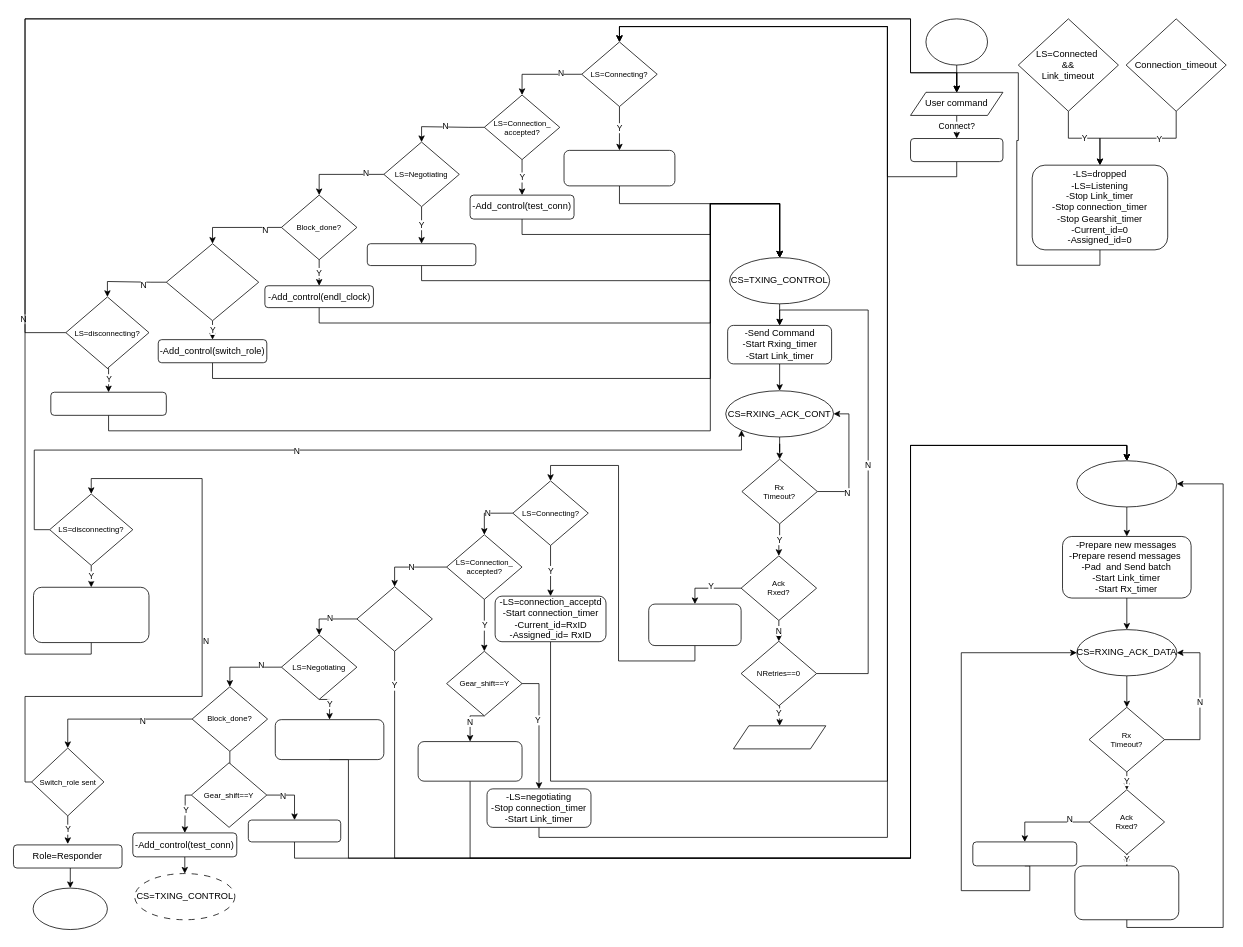
This 1243x947 diagram has some shape labels left out. The box of each missing label's shape, as (x1, y1, x2, y2) in pixels:
-Add_control(cloase_conn): (50, 391, 166, 415)
-Add_control(set_config): (367, 243, 476, 266)
-Add_control(start_conn) -Start connection_timer: (563, 150, 675, 186)
-LS=Connected -Load_config -Start Gearshift_timer: (275, 719, 384, 760)
-LS=connected -Stop connection_timer -Start Link_timer: (417, 741, 522, 781)
-LS=IDLE -Stop connection_timer -Stop Link_timer -Stop gear_shift_timer: (33, 587, 149, 643)
-Send(Repeat last ack) -Start Rx_timer: (972, 841, 1077, 866)
-Start Link_timer -Start gear_shift_timer -Register acks -Cleanup: (1074, 865, 1179, 920)
-Start Link_timer -Start Gearshit_timer -Stop Rx_timer: (648, 603, 741, 646)
CS=RECEIVING: (32, 887, 107, 930)
CS=TXING_DATA: (1076, 460, 1177, 507)
Load data from buffer: (248, 819, 341, 842)
LS=Connected: (356, 586, 432, 651)
LS=Connecting: (910, 138, 1003, 162)
LS=IDLE CS=IDLE: (925, 18, 988, 65)
Message Lost: (733, 725, 826, 749)
Tx list==empty pending acks==0 && TX_Buffer=empty?: (166, 243, 259, 321)
